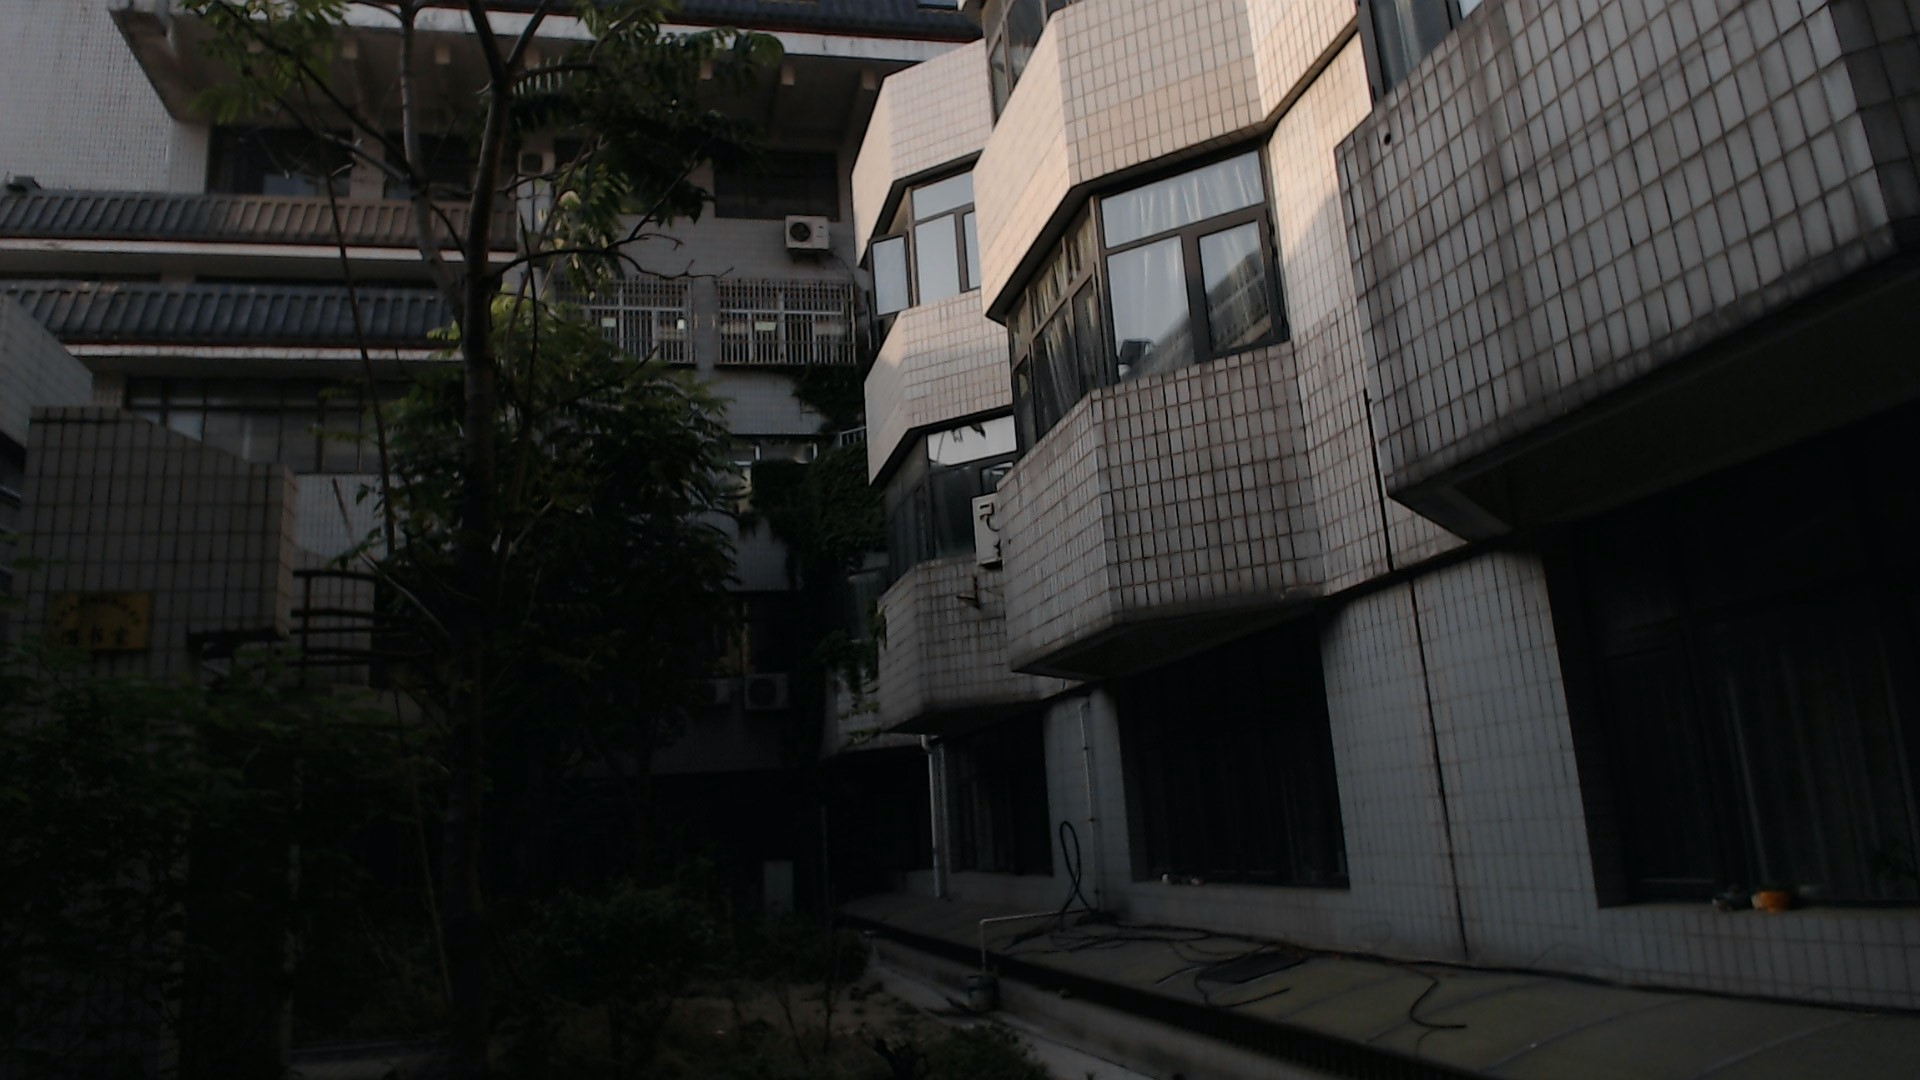drone: (828, 1000, 952, 1080)
